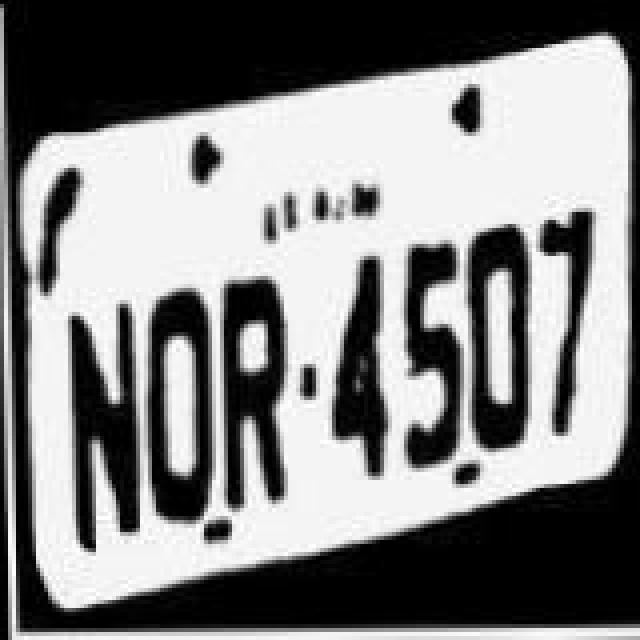4: (322, 240, 402, 476)
5: (392, 234, 468, 470)
7: (530, 178, 610, 454)
N: (60, 294, 140, 546)
O: (140, 262, 220, 530), (460, 206, 536, 454)
R: (218, 272, 302, 512)
